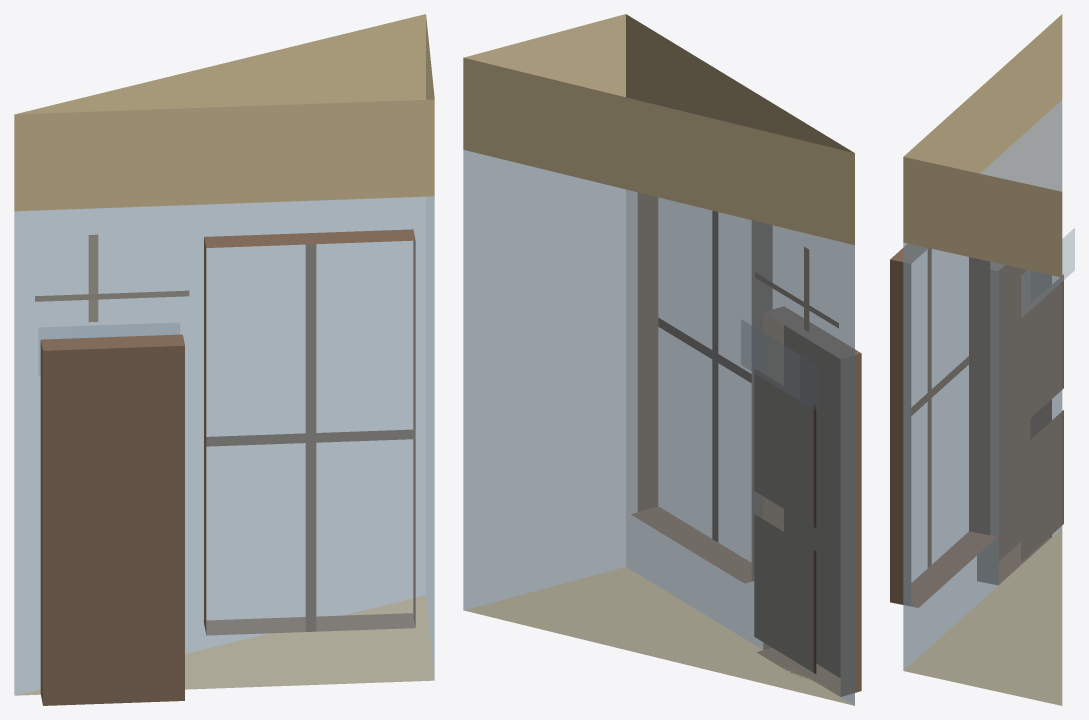
The model's file is N-40-42.vitrine.glb.
3 views of the same model, side by side, from view 1: azimuth 30°, elevation 25°; view 2: azimuth 150°, elevation 25°; view 3: azimuth 270°, elevation 25° (orthographic). The views are drawn at different scales.
Parts seen in each view (by area): view 1: N-40-42.vitrine; view 2: N-40-42.vitrine; view 3: N-40-42.vitrine.
Part boxes in pixels (x1,y1,x2,y2): N-40-42.vitrine: (14, 14, 434, 705); N-40-42.vitrine: (463, 14, 861, 705); N-40-42.vitrine: (890, 14, 1074, 705).
Size of the model in its own units: 2.67 by 3.6 by 1.17.
